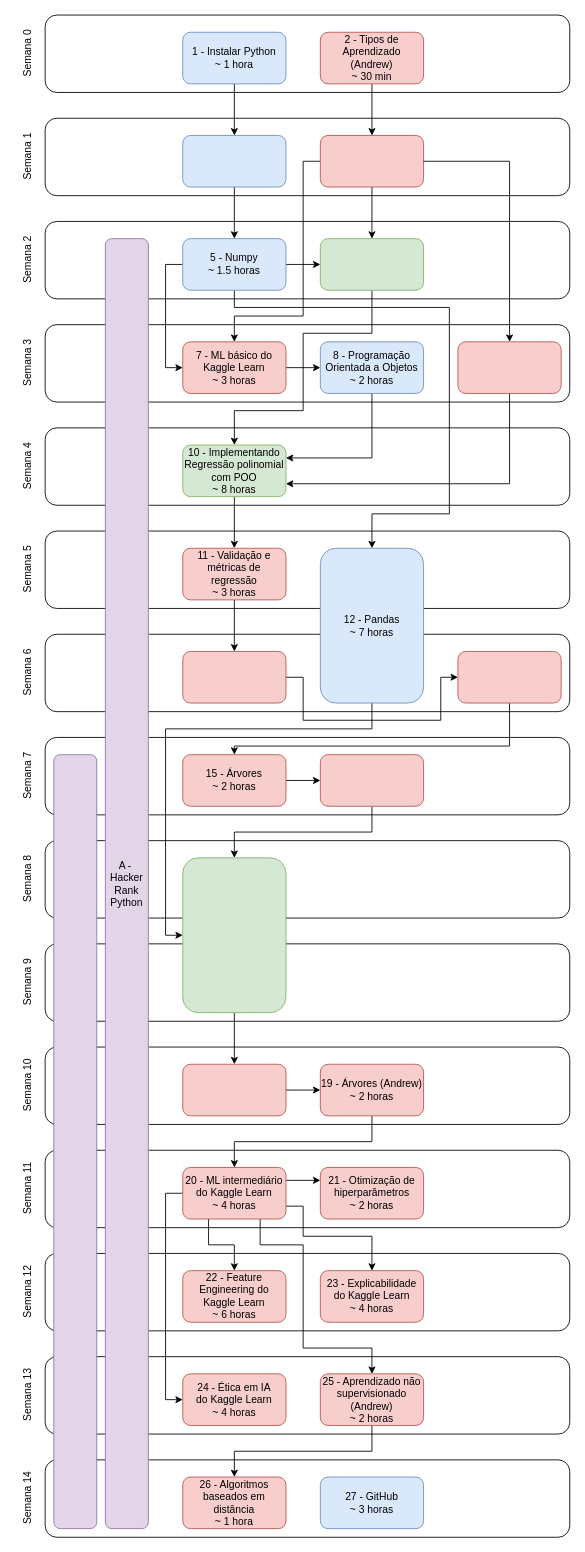
The diagram is 585 pixels wide and 1552 high, and some of its shapes have lost their labels. The centre of each missing label's shape, as x and y in pixels:
13 - Regressão Logística (Andrew) ~ 2 horas: the point at 234,677
14 - Métricas de classificação ~ 2 horas: the point at 509,677
16 - Random Forest ~ 1 hora: the point at 371,780
17 - Kaggle Challenge ~ 16 horas: the point at 234,935
18 - Dicas práticas (Andrew) ~ 3 horas: the point at 234,1089
3 - Nivelamento Python ~ 5 horas: the point at 234,161
4 - Regressão Linear (Andrew) ~ 2 horas: the point at 371,161
6 - Implementando Regressão Linear ~ 6 horas: the point at 371,264
9 - Regressão Multivariada (Andrew) ~ 1.5 - 2.5 horas: the point at 509,367
B - Strata scratch Pandas: the point at 75,1141
